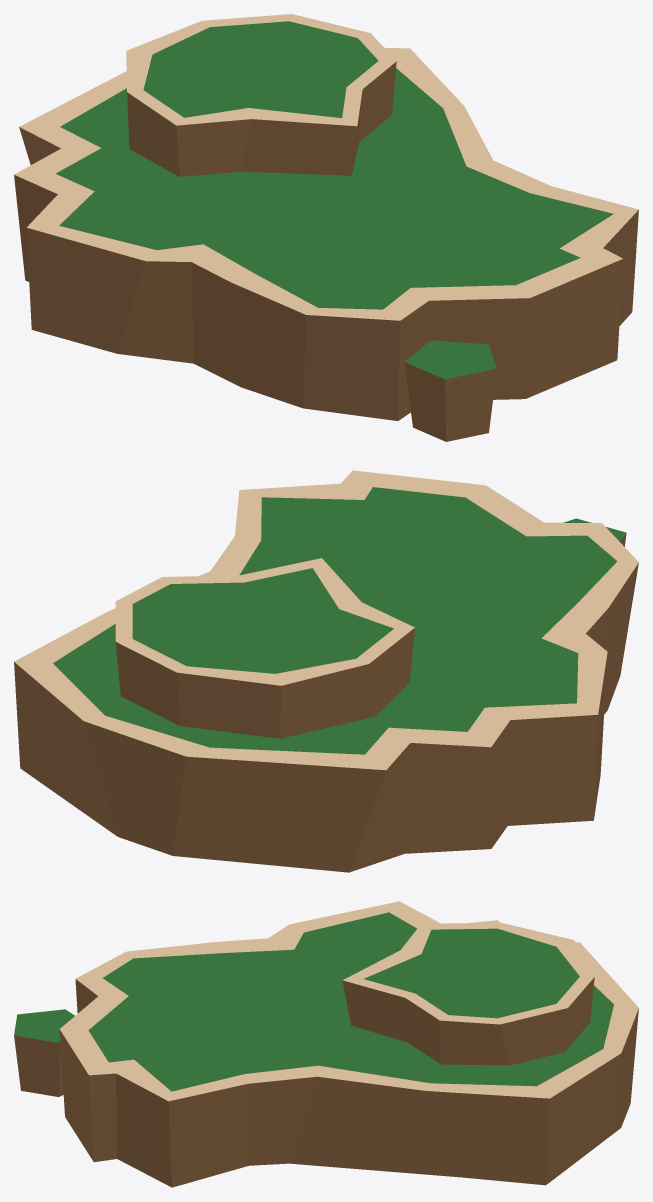
File: rock-terrasse.glb
3 renders of one model, top to bottom at view 1: azimuth 30°, elevation 25°; view 2: azimuth 150°, elevation 25°; view 3: azimuth 270°, elevation 25°, orthographic. The views are drawn at different scales.
Visible parts, largest first — view 1: rock-terrasse; view 2: rock-terrasse; view 3: rock-terrasse.
Part boxes in pixels (x1,y1,x2,y2): rock-terrasse: (14,14,638,441); rock-terrasse: (14,470,638,872); rock-terrasse: (14,901,638,1187).
Size of the model in its own units: 6.04 by 1.88 by 7.97.
Materials: 1 (1 with a texture image).
